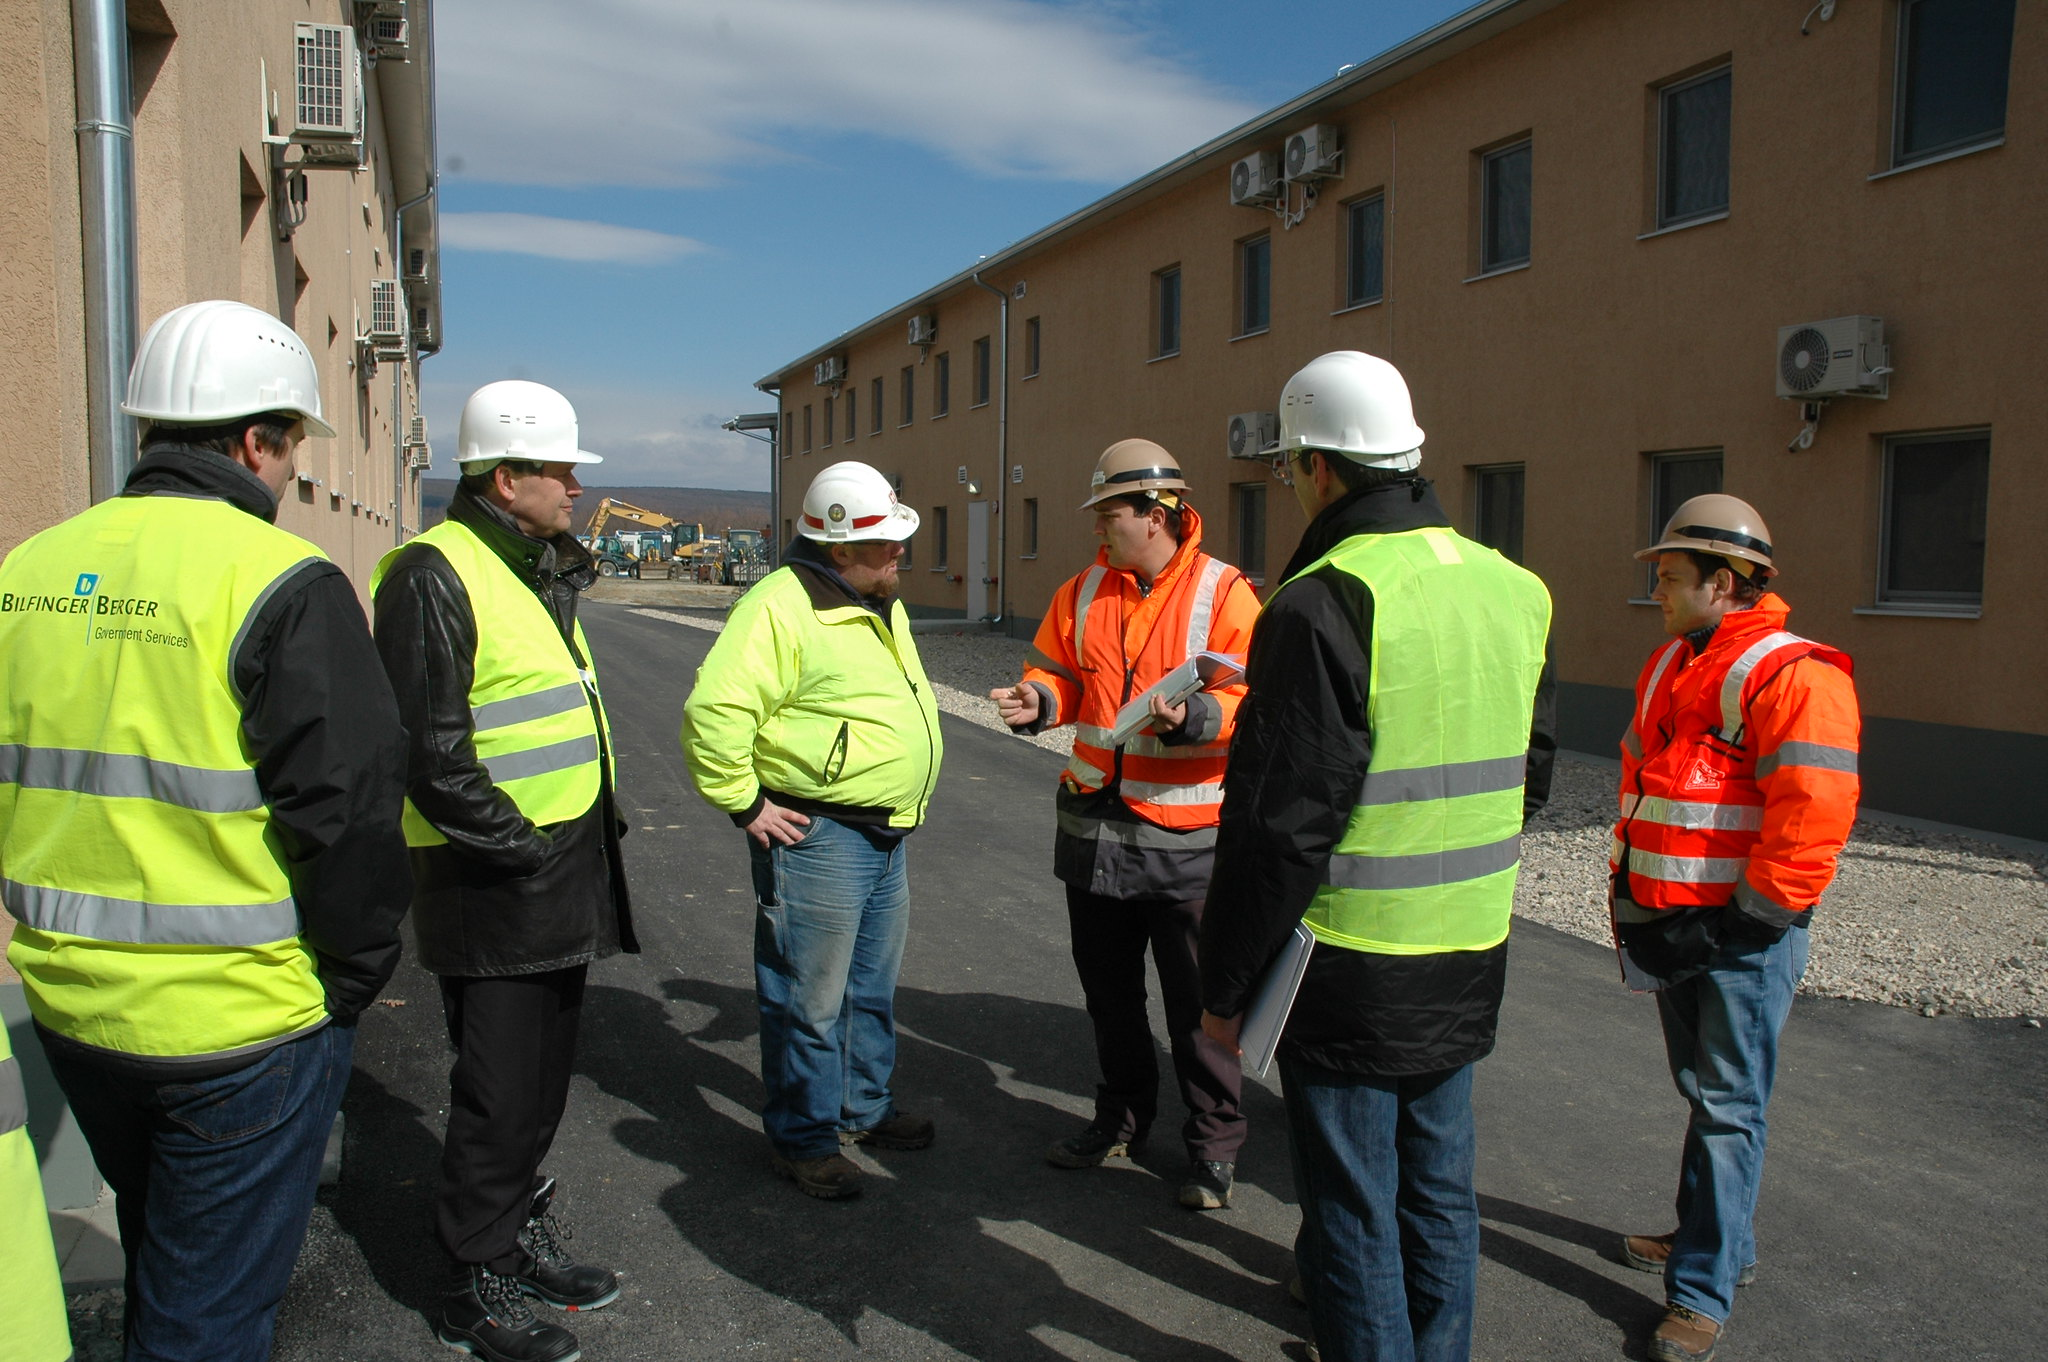Helmet: (109, 290, 374, 553), (1249, 337, 1449, 562), (773, 438, 956, 626), (1626, 485, 1808, 672), (447, 371, 615, 572), (1060, 427, 1209, 611)
Reflective vest: (2, 509, 342, 1056), (1263, 527, 1563, 971), (374, 523, 653, 863), (1016, 556, 1278, 863), (691, 564, 956, 860), (1612, 626, 1869, 914)
